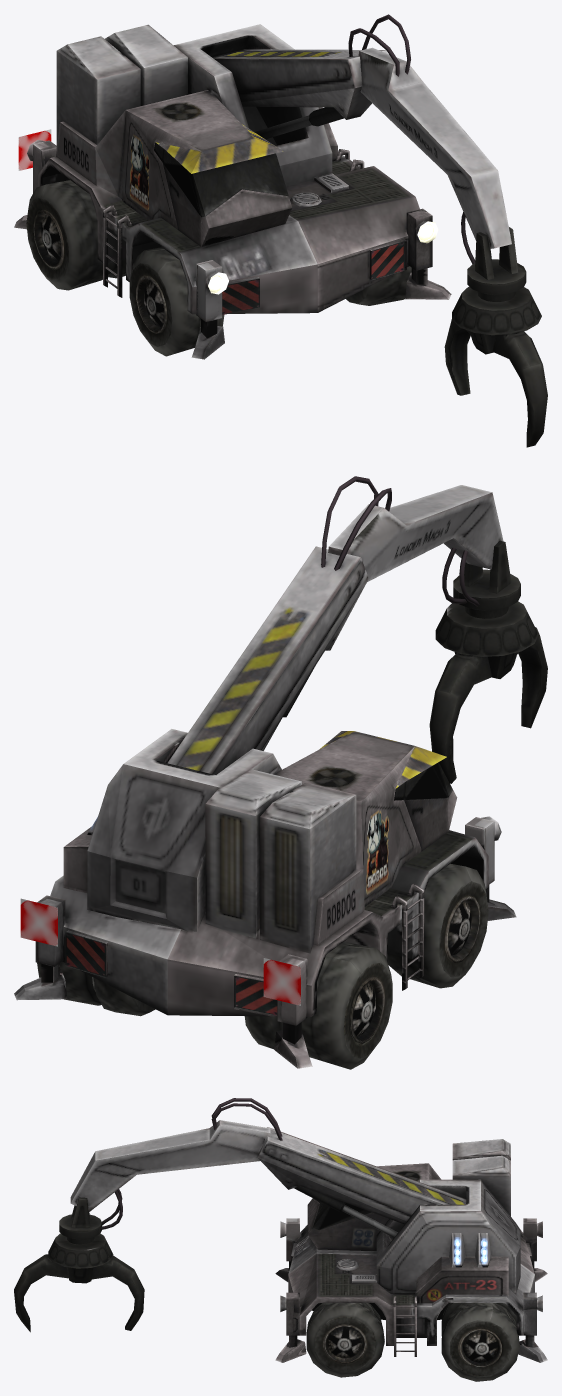
Rendered from HeavyMachinery.fbx.
3 renders of one model, top to bottom at view 1: azimuth 30°, elevation 25°; view 2: azimuth 150°, elevation 25°; view 3: azimuth 270°, elevation 25°, orthographic. The views are drawn at different scales.
Parts seen in each view (by area): view 1: HeavyMachinery, HeavyMachinery_1, BackRight, FrontRight, Object005, Object004, FrontLeft, BackLight_1; view 2: HeavyMachinery, HeavyMachinery_1, BackRight, FrontRight, Object004, BackLeft, Object005, BackLight, BackLight_1; view 3: HeavyMachinery, HeavyMachinery_1, BackLeft, FrontLeft, Object004, Object005.
Part boxes in pixels (x1,y1,x2,y2): HeavyMachinery: (27,24,438,321); HeavyMachinery_1: (14,14,541,359); BackRight: (26,180,125,290); FrontRight: (129,247,224,356); Object005: (492,331,547,447); Object004: (444,319,470,395); FrontLeft: (346,266,411,305); BackLight_1: (18,129,51,170); HeavyMachinery: (35,729,501,1025); HeavyMachinery_1: (14,476,538,1068); BackRight: (244,942,392,1069); FrontRight: (388,863,488,988); Object004: (429,653,491,783); BackLeft: (37,961,155,1016); Object005: (517,627,547,728); BackLight: (20,898,57,946); BackLight_1: (263,958,300,1005); HeavyMachinery: (280,1139,542,1356); HeavyMachinery_1: (48,1098,547,1362); BackLeft: (441,1303,519,1381); FrontLeft: (306,1303,384,1377); Object004: (91,1255,144,1330); Object005: (14,1254,68,1332).
Bounding box in the file's own units: 252 × 310 × 598.
2 materials, 2 textured.
